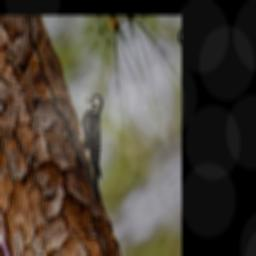Woodpecker: (61, 88, 132, 210)
